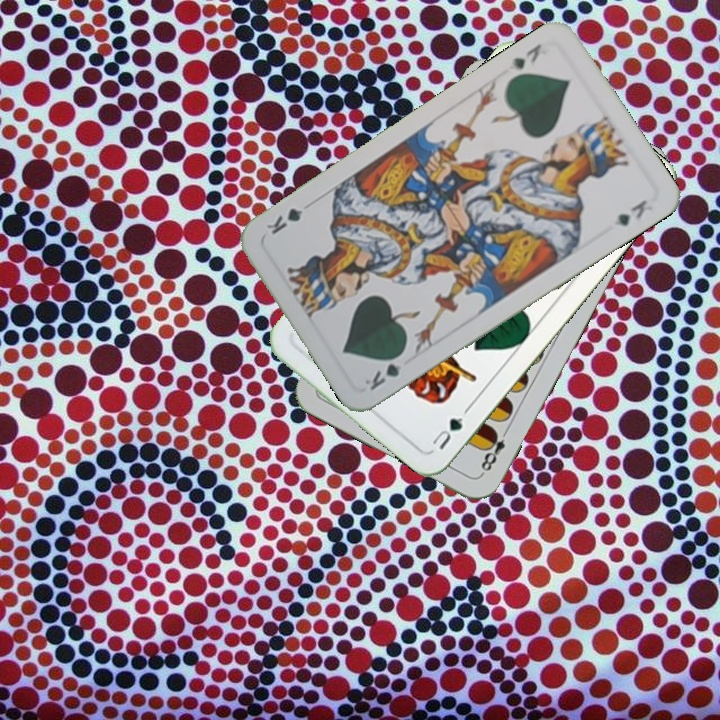E8: (476, 424, 512, 478)
GK: (360, 348, 408, 394), (504, 39, 544, 73)
GU: (428, 413, 466, 453)
